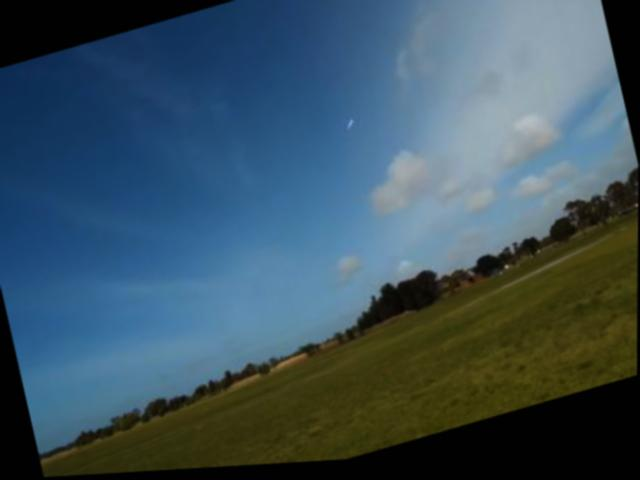uav: (340, 116, 360, 137)
